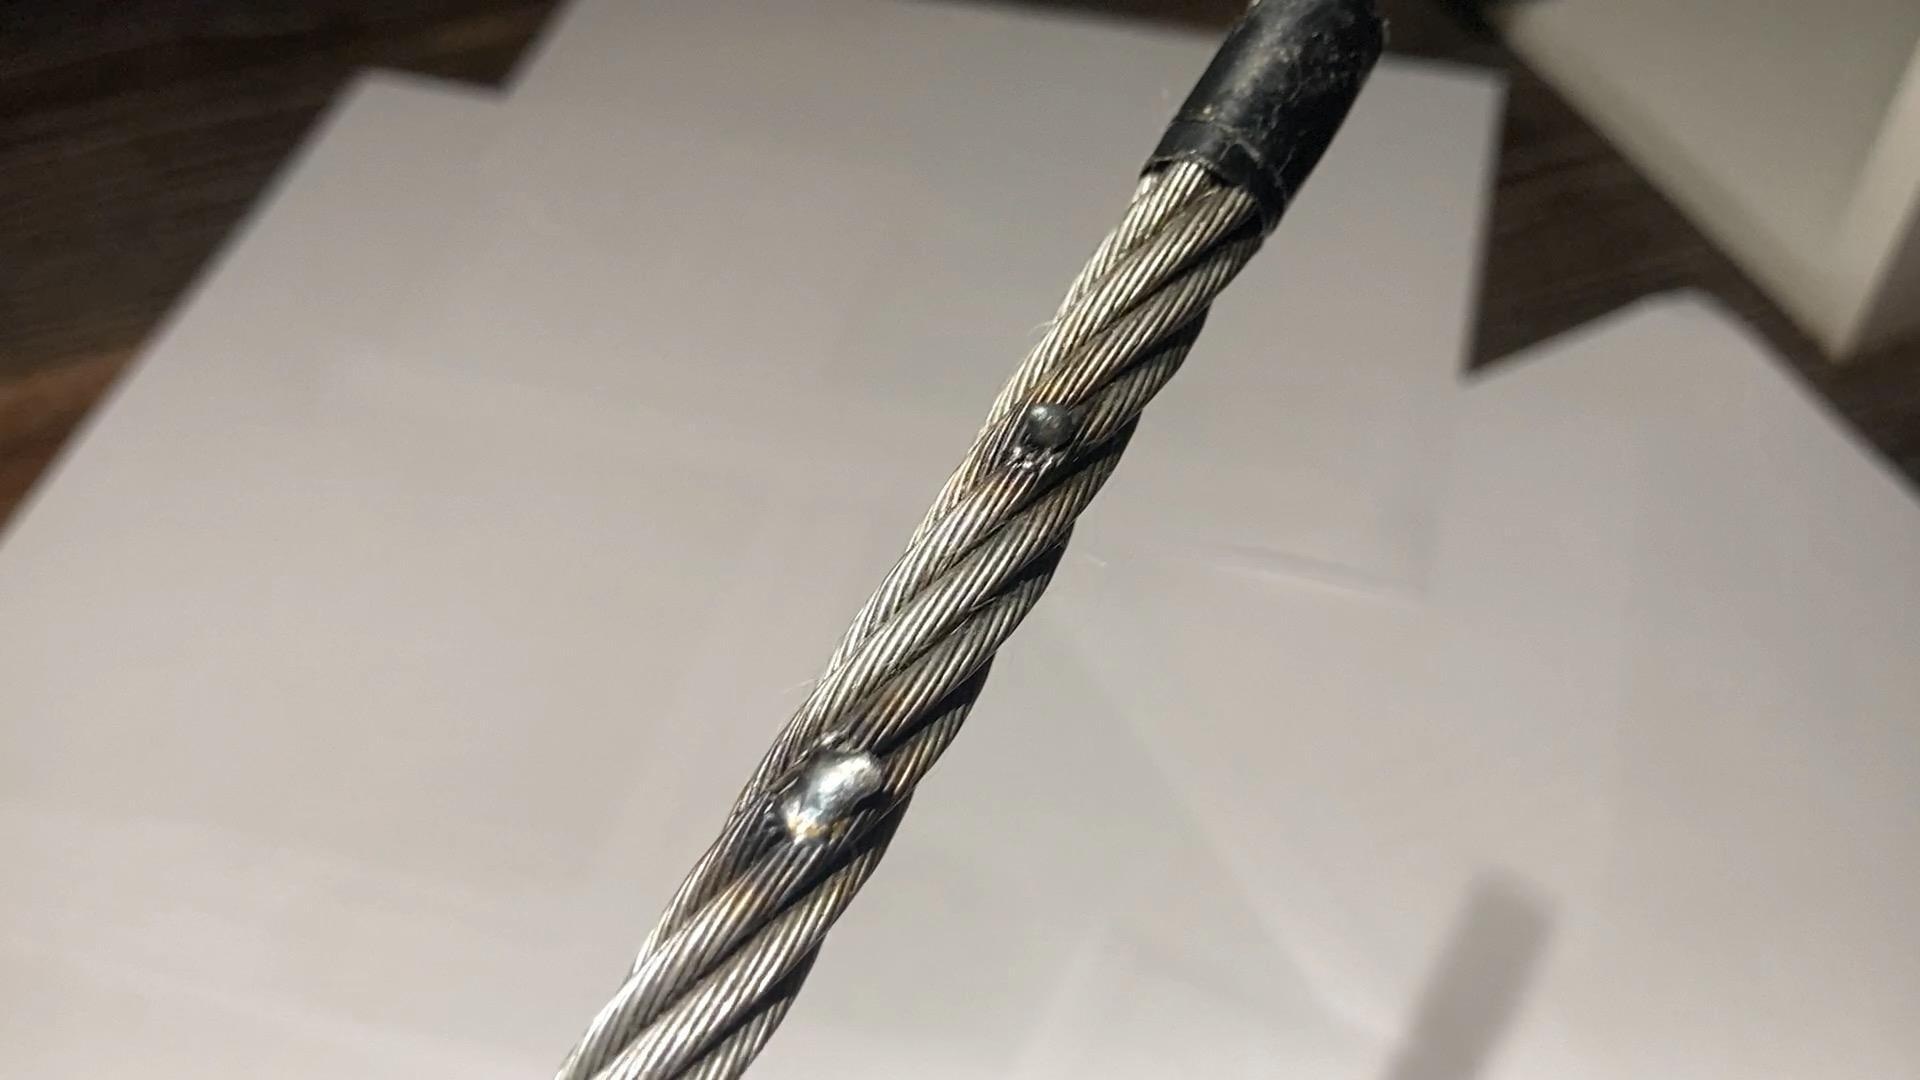thunderbolt: (998, 390, 1097, 469)
